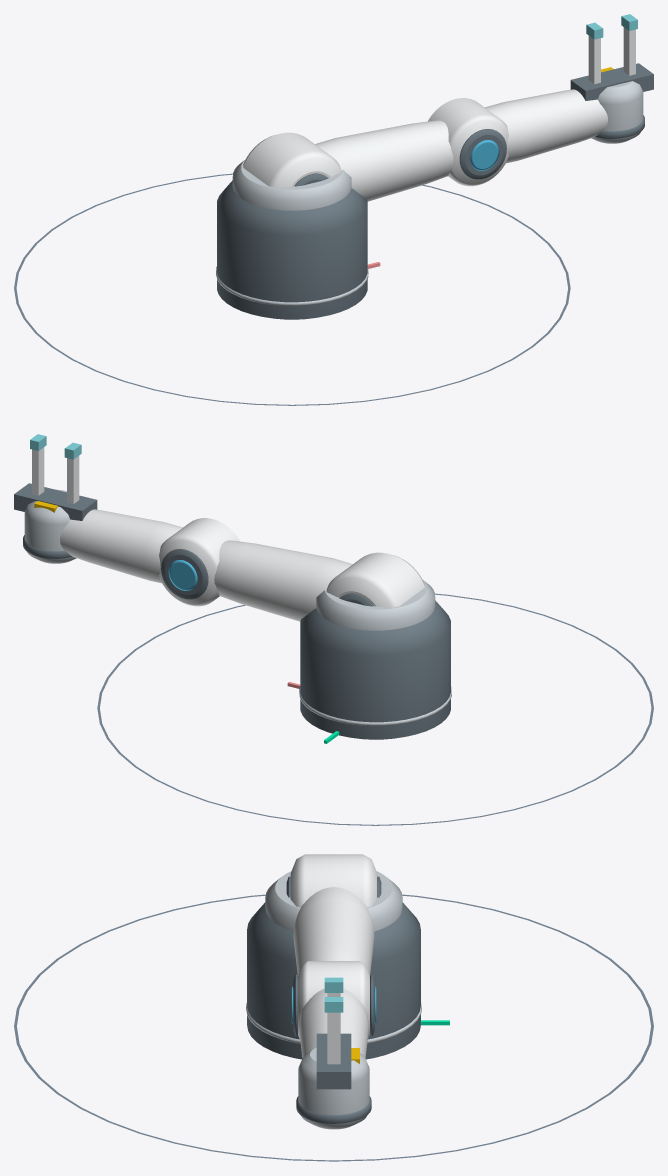
File: articulated-arm.glb
3 renders of one model, top to bottom at view 1: azimuth 30°, elevation 25°; view 2: azimuth 150°, elevation 25°; view 3: azimuth 270°, elevation 25°, orthographic. The views are drawn at different scales.
Visible parts, largest first — view 1: Base, UpperLink, ForearmLink, Shoulder, BaseYaw, Elbow, ReferenceRing, Wrist, GripperPalm, ElbowCap-1, BaseTrim, ElbowAccent-1 (+2 smaller); view 2: Base, UpperLink, ForearmLink, Shoulder, BaseYaw, Elbow, ReferenceRing, Wrist, GripperPalm, ElbowCap1, BaseTrim, ElbowAccent1 (+2 smaller); view 3: Base, UpperLink, Shoulder, Wrist, ReferenceRing, ForearmLink, BaseYaw, Elbow, GripperPalm, WristRollCue, LeftFingerBody, BaseTrim.
Part boxes in pixels (x1,y1,x2,y2): Base: [217, 180, 367, 319]; UpperLink: [315, 120, 453, 201]; ForearmLink: [485, 89, 607, 163]; Shoulder: [243, 132, 341, 187]; BaseYaw: [232, 159, 351, 210]; Elbow: [428, 98, 508, 186]; ReferenceRing: [14, 173, 570, 405]; Wrist: [591, 81, 643, 143]; GripperPalm: [570, 63, 653, 100]; ElbowCap-1: [459, 129, 506, 179]; BaseTrim: [216, 266, 368, 305]; ElbowAccent-1: [470, 140, 499, 170]; Base: [300, 600, 450, 739]; UpperLink: [214, 540, 352, 621]; ForearmLink: [60, 509, 182, 583]; Shoulder: [326, 552, 424, 607]; BaseYaw: [316, 579, 435, 630]; Elbow: [159, 518, 239, 606]; ReferenceRing: [97, 593, 653, 825]; Wrist: [24, 489, 76, 563]; GripperPalm: [14, 483, 97, 520]; ElbowCap1: [161, 549, 208, 599]; BaseTrim: [299, 686, 451, 725]; ElbowAccent1: [168, 560, 197, 590]; Base: [247, 902, 420, 1059]; UpperLink: [293, 887, 374, 975]; Shoulder: [290, 854, 377, 907]; Wrist: [298, 1047, 369, 1129]; ReferenceRing: [14, 894, 653, 1161]; ForearmLink: [299, 988, 368, 1058]; BaseYaw: [265, 871, 402, 931]; Elbow: [298, 961, 369, 1039]; GripperPalm: [316, 1033, 351, 1089]; WristRollCue: [296, 1096, 371, 1123]; LeftFingerBody: [327, 1012, 340, 1064]; BaseTrim: [246, 1003, 421, 1043].
Bounding box in the file's own units: 0.8185 × 0.251 × 0.663.
